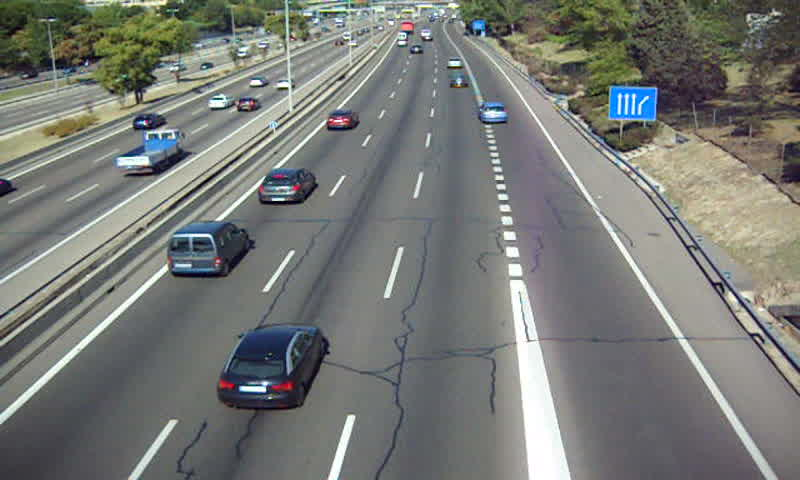car: (218, 323, 325, 409), (258, 169, 317, 203), (325, 110, 358, 131), (477, 100, 507, 122), (448, 74, 468, 89), (446, 56, 464, 68)
van: (165, 223, 249, 275)
